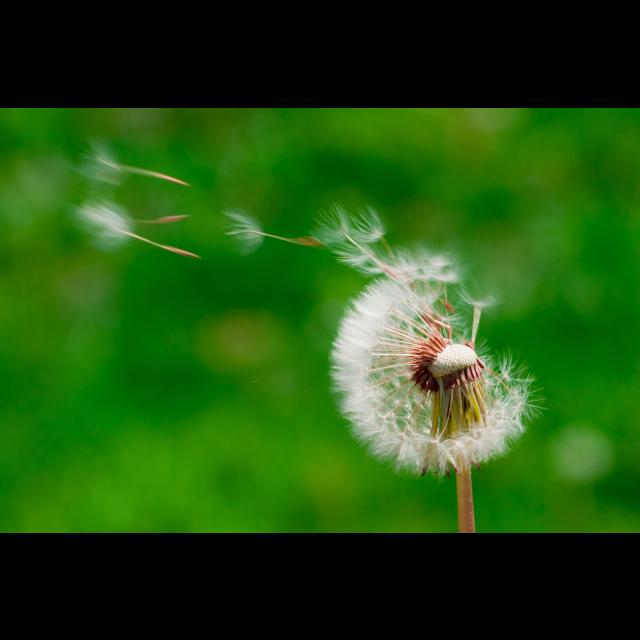Flower: (337, 231, 517, 469)
